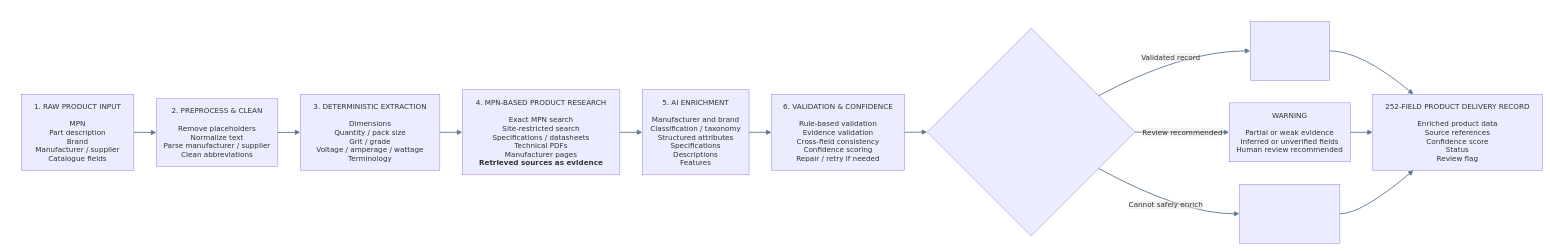
Some shapes in this 1550 by 251 pixel diagram are drawn without their labels. Each missing label, with the centre of its shape:
7. OUTPUT & REVIEW Evidence + confidence + human review: [1031,132]
FAILURE Insufficient evidence Unable to safely enrich Preserve original input: [1289,213]
SUCCESS Strong evidence High confidence Validated record: [1290,50]
